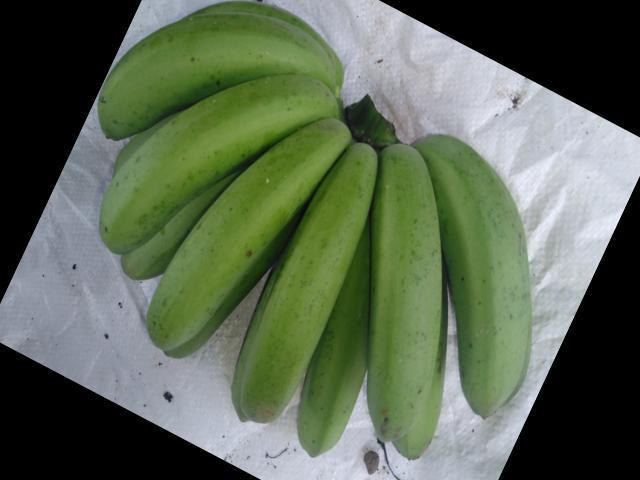unripe: (139, 121, 348, 352), (87, 68, 344, 239), (230, 151, 382, 432), (424, 116, 542, 420), (362, 131, 454, 469), (78, 8, 339, 119)
